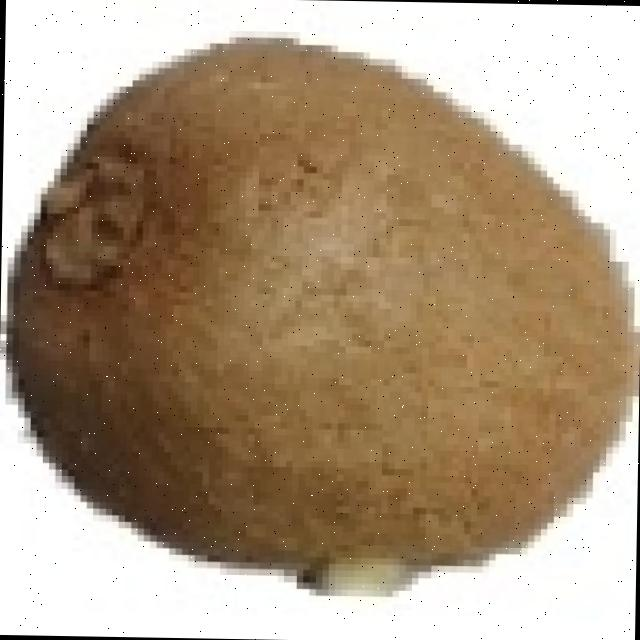kiwi: (19, 32, 634, 577)
